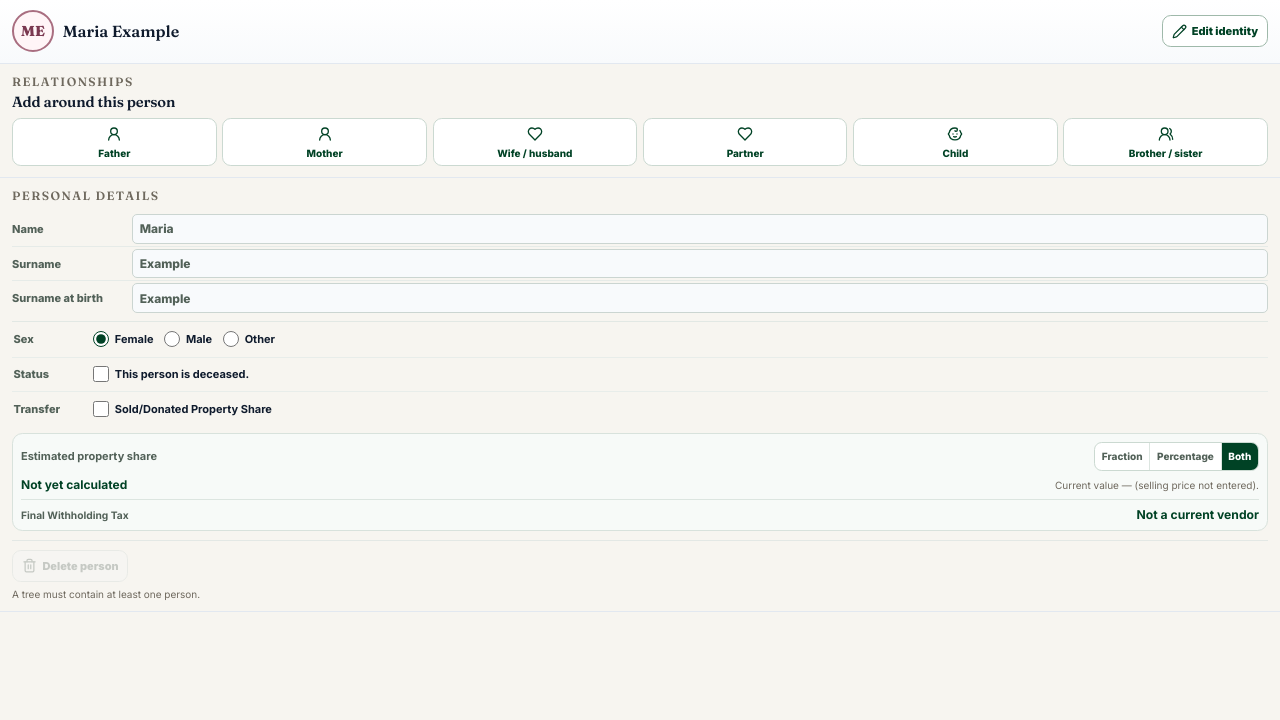
Test: PersonInspector › adds several children while keeping the relationship controls on the same person
The image size is (1280, 720).
Click the button "Child" at (955, 142), box [853,118,1058,166]
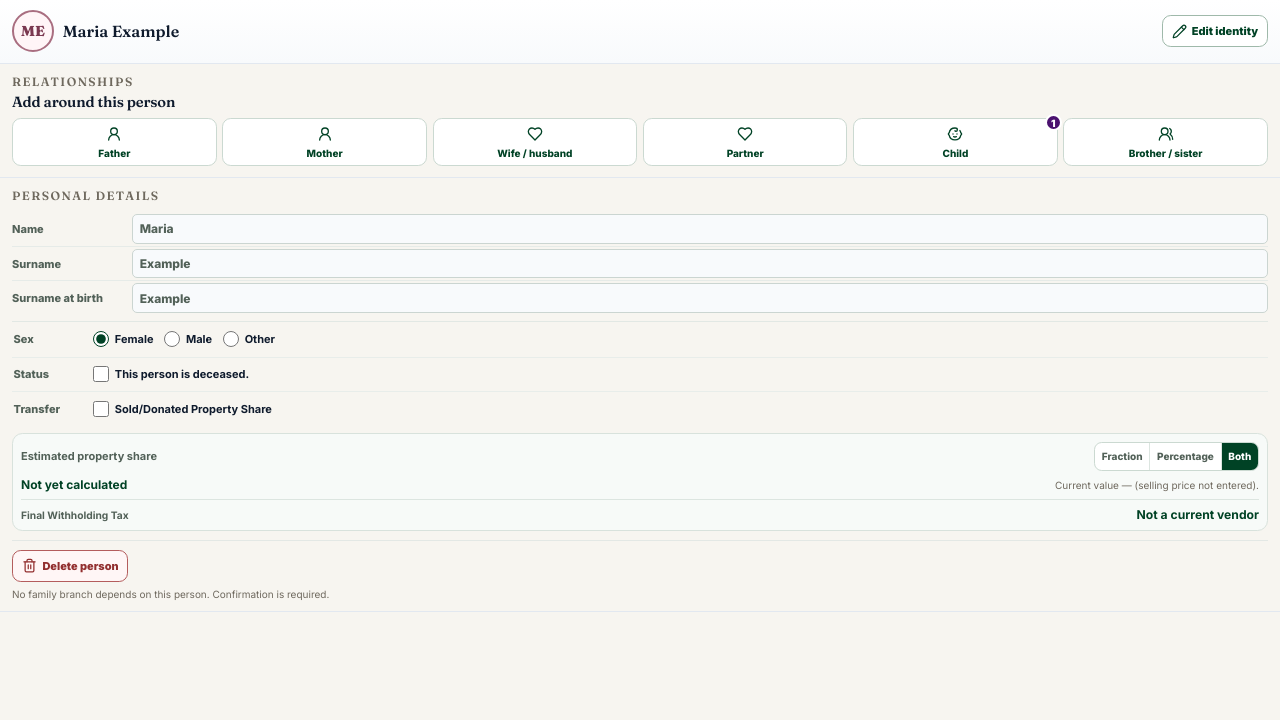
Click the button "Child 1" at (955, 142), box [853,118,1058,166]
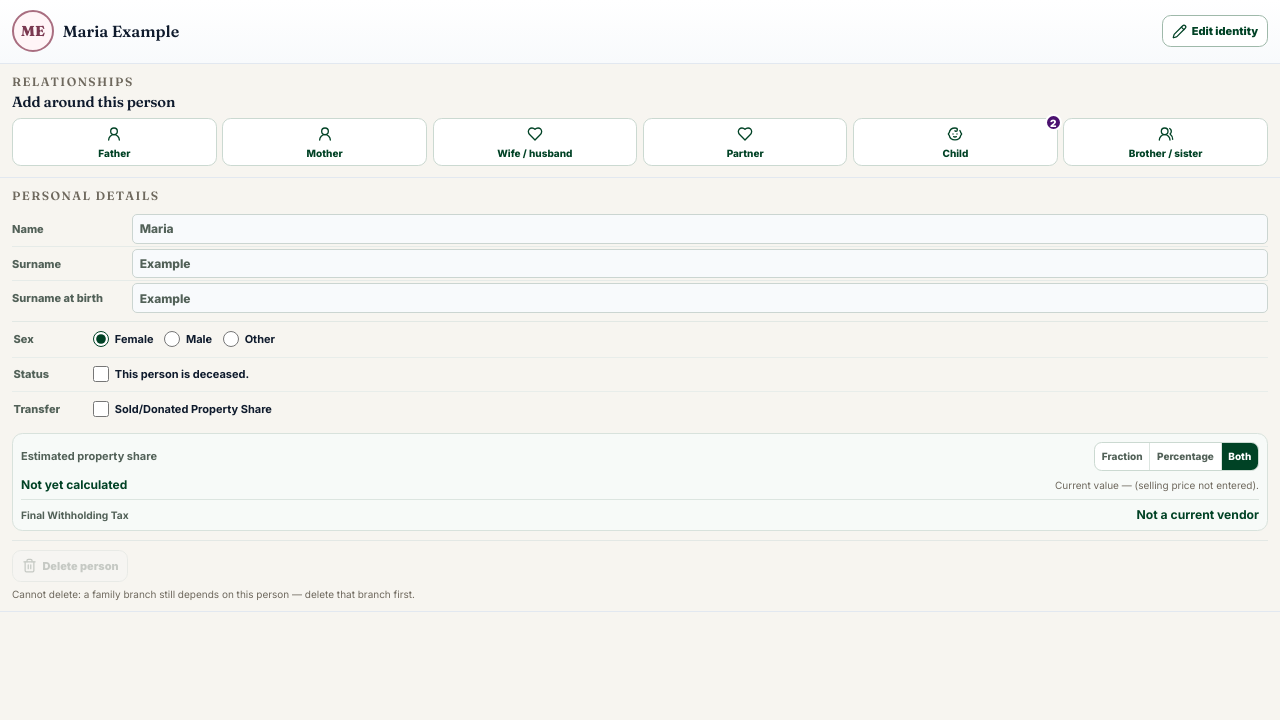
Click the button "Child 2" at (955, 142), box [853,118,1058,166]
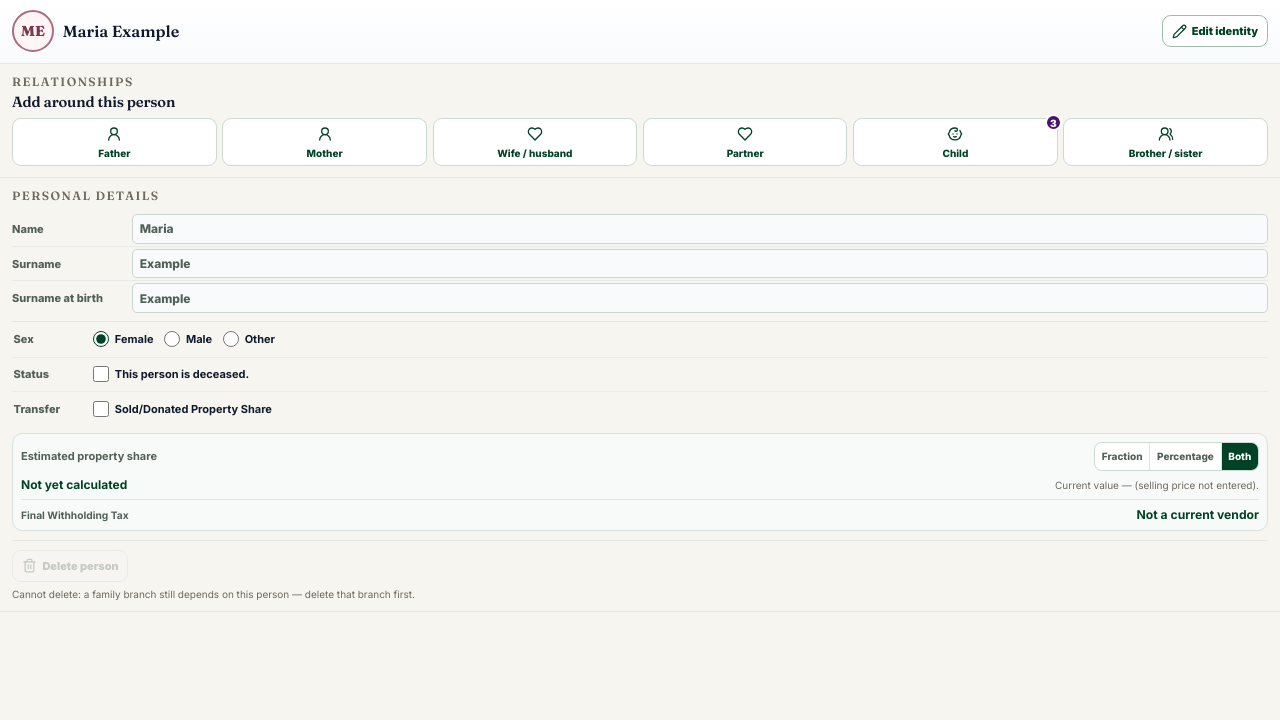
Expected: the text with class "relationship-count" reads "3", [1050,117,1057,129]
